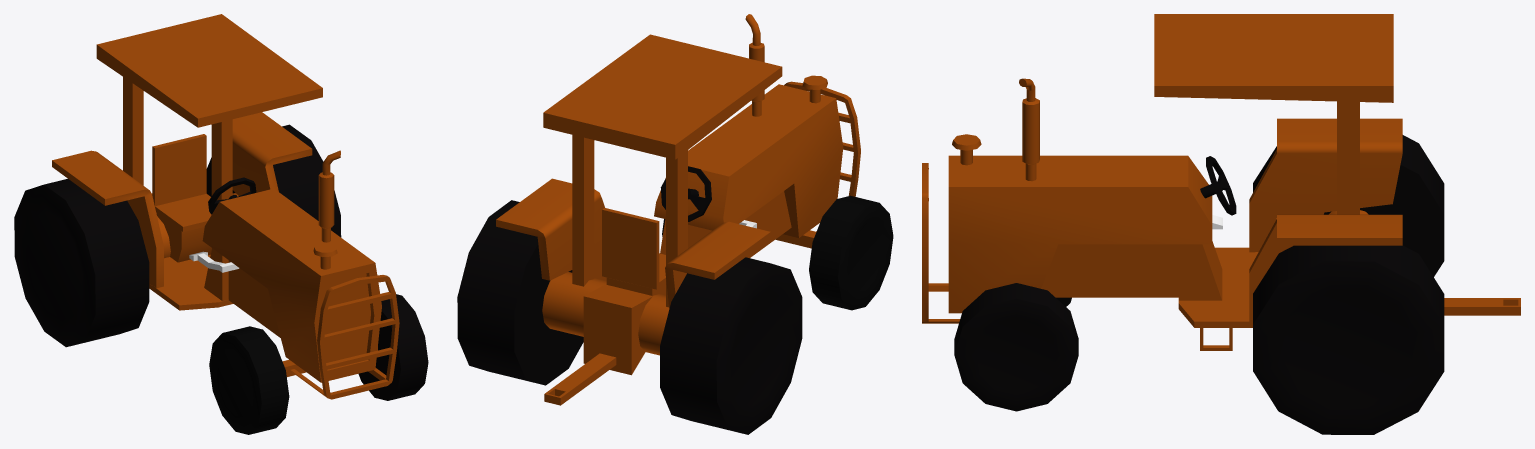
File: tractorazo.glb
3 renders of one model, left to right at view 1: azimuth 30°, elevation 25°; view 2: azimuth 150°, elevation 25°; view 3: azimuth 270°, elevation 25°, orthographic. The views are drawn at different scales.
Visible parts, largest first — view 1: tractor_body, backwheels, front_r_wheel, front_l_wheel, wheel, pedal; view 2: tractor_body, backwheels, front_r_wheel, wheel; view 3: tractor_body, backwheels, front_l_wheel, wheel.
Part boxes in pixels (x1,y1,x2,y2): tractor_body: (52, 14, 399, 399); backwheels: (14, 124, 341, 347); front_r_wheel: (209, 326, 289, 434); front_l_wheel: (358, 294, 428, 400); wheel: (208, 177, 256, 214); pedal: (189, 251, 239, 272); tractor_body: (496, 14, 860, 405); backwheels: (457, 200, 802, 434); front_r_wheel: (809, 195, 893, 310); wheel: (660, 166, 711, 221); tractor_body: (922, 14, 1520, 350); backwheels: (1253, 135, 1444, 434); front_l_wheel: (954, 283, 1078, 411); wheel: (1200, 156, 1236, 215).
Size of the model in its own units: 3.54 by 3.56 by 6.15.
